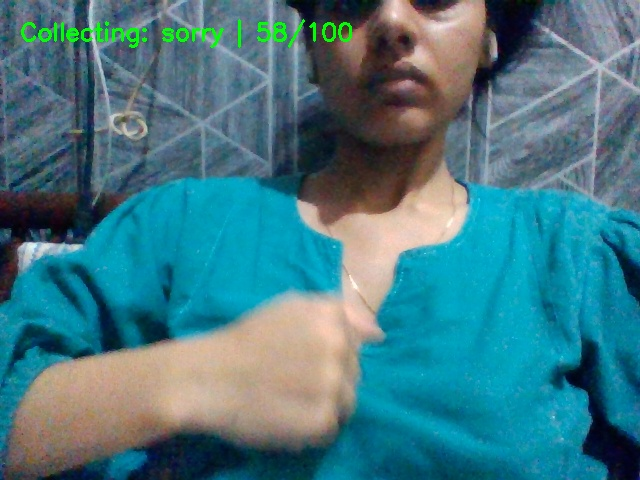sorry: (160, 277, 387, 455)
